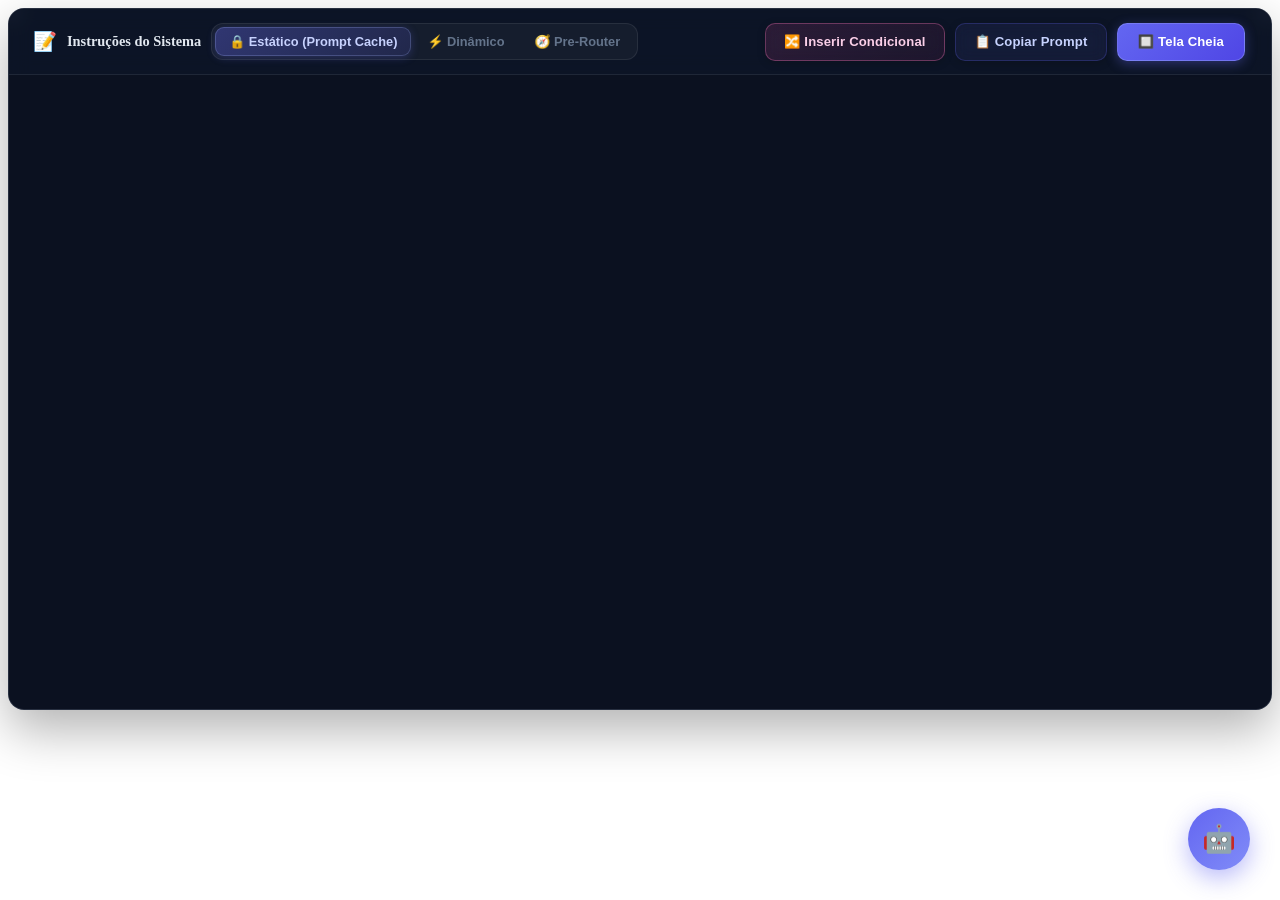
Scenario: PromptEditor - Nova Arquitetura com Consultor › deve ocultar a bolinha do assistente e alternar para modo expandido ao clicar em Tela Cheia
This screenshot has width=1280, height=900.
Check: the button "🤖" is shown, box [1188, 808, 1250, 870]
Click the button "🔲 Tela Cheia" at [1181, 42], box [1117, 23, 1245, 61]
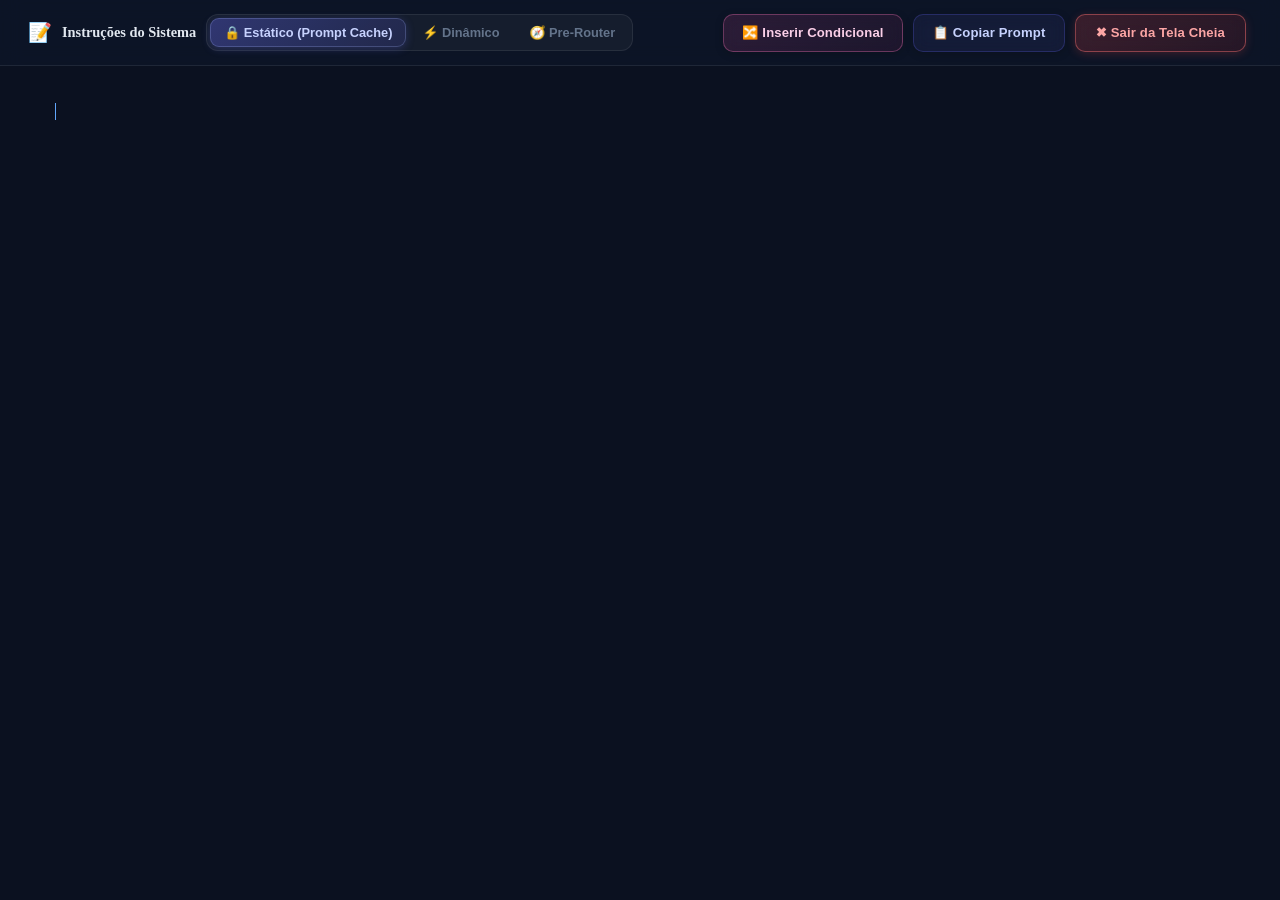
Check: the button "✖ Sair da Tela Cheia" is shown, box [1075, 14, 1246, 52]
Check: the button "🤖" is gone
